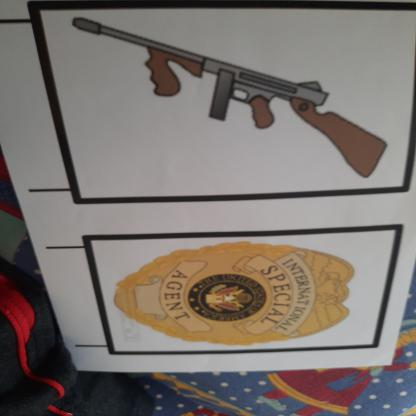Bootlegger: (65, 14, 394, 184)
G-man: (108, 236, 362, 349)
